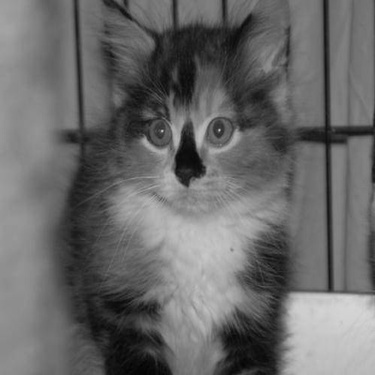cat: (46, 5, 297, 361)
